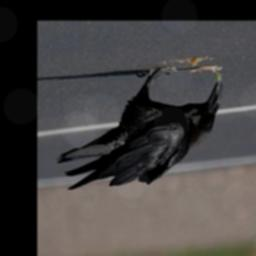Crow: (56, 68, 223, 191)
